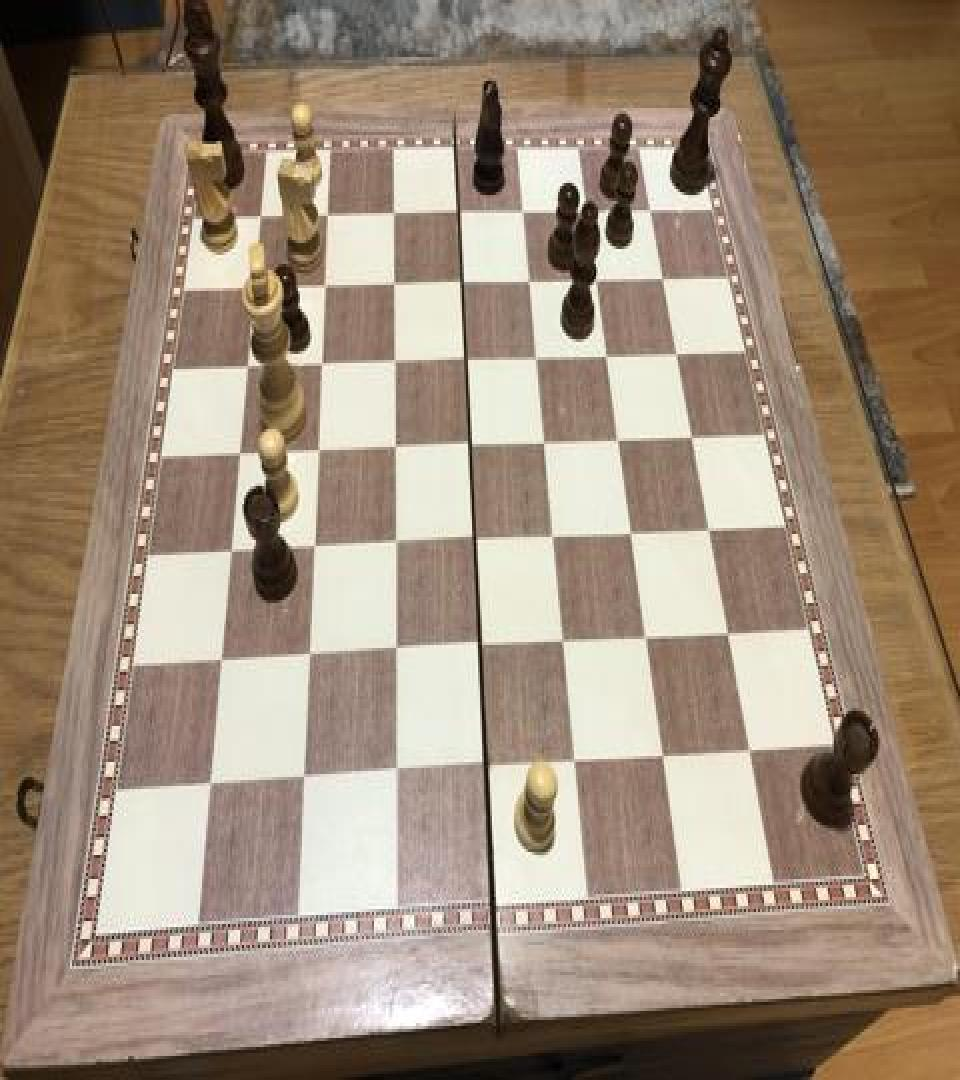xcorner: (621, 520, 645, 557), (297, 640, 321, 677), (641, 196, 665, 232), (577, 198, 601, 234), (513, 198, 537, 234), (448, 200, 472, 236), (382, 200, 406, 236), (315, 201, 339, 237), (247, 202, 271, 238), (654, 266, 678, 302), (587, 267, 611, 303), (519, 268, 543, 304), (451, 270, 475, 306), (382, 272, 406, 308), (312, 272, 336, 308), (241, 273, 265, 309), (667, 340, 691, 376), (526, 345, 550, 381), (455, 346, 479, 382), (382, 348, 406, 384), (309, 351, 333, 387), (234, 352, 258, 388), (682, 424, 706, 460), (609, 428, 633, 464), (534, 429, 558, 465), (459, 432, 483, 468), (382, 435, 406, 471), (305, 436, 329, 472), (227, 440, 251, 476), (699, 518, 723, 554), (543, 524, 567, 560), (463, 526, 487, 562), (383, 530, 407, 566), (301, 534, 325, 570), (219, 537, 243, 573), (717, 620, 741, 656), (635, 624, 659, 660), (553, 628, 577, 664), (469, 633, 493, 669), (383, 636, 407, 672), (209, 645, 233, 681), (738, 735, 762, 771), (651, 741, 675, 777), (563, 746, 587, 782), (474, 752, 498, 788), (384, 756, 408, 792), (292, 762, 316, 798), (199, 768, 223, 804), (597, 344, 621, 379)
